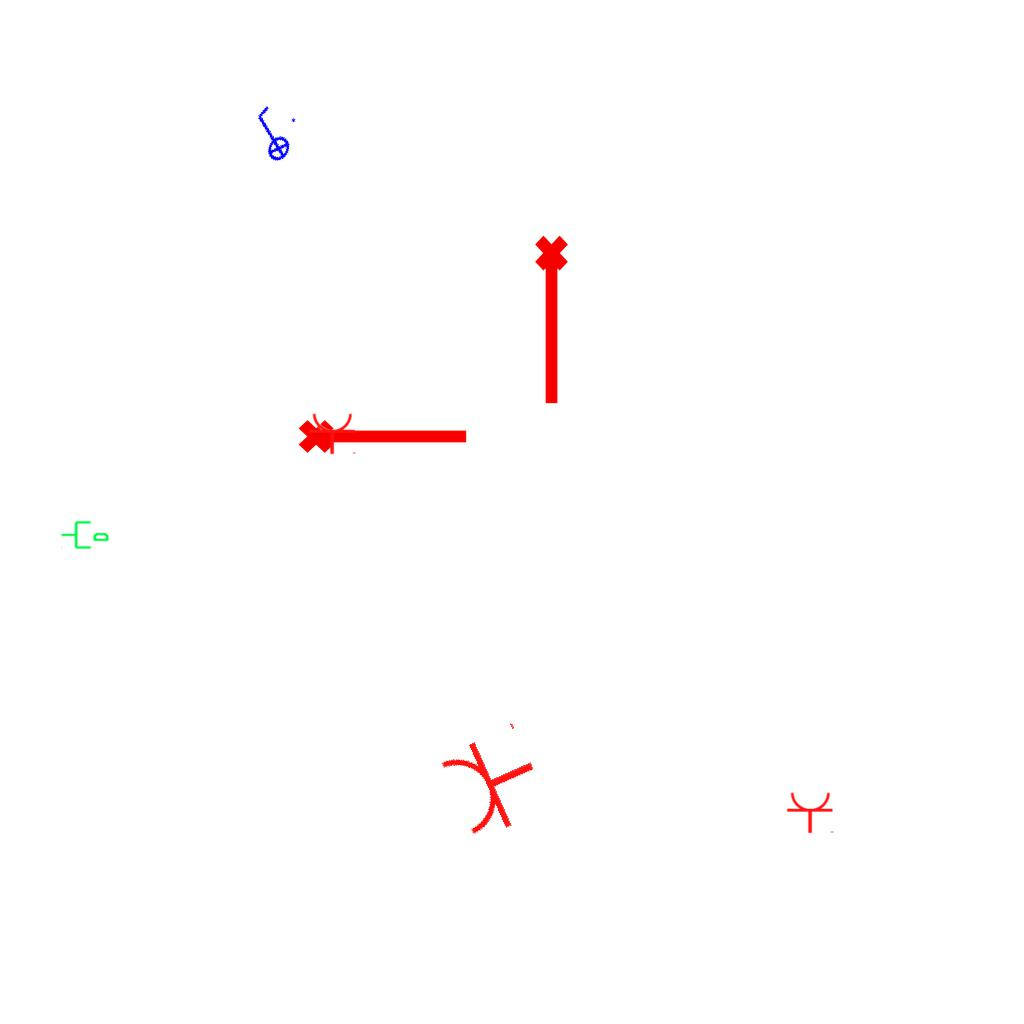ASR_Ansaugoeffnung: (531, 233, 577, 409), (296, 411, 472, 457)
Ausschalter_beleuchtet: (236, 99, 306, 171)
Datenanschluss_einfach: (60, 517, 110, 551)
Schukosteckdose_einfach: (433, 717, 554, 845), (786, 791, 836, 834), (308, 412, 358, 455)
